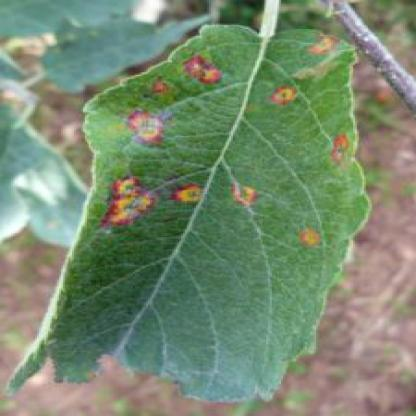Apple rust leaf: (65, 13, 379, 410)
